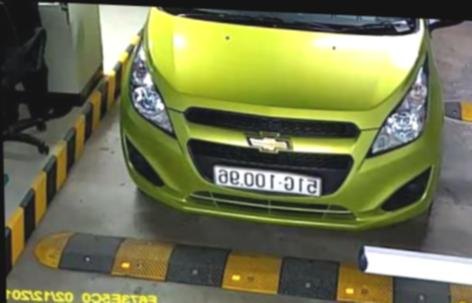License_Plate: (215, 168, 320, 195)
